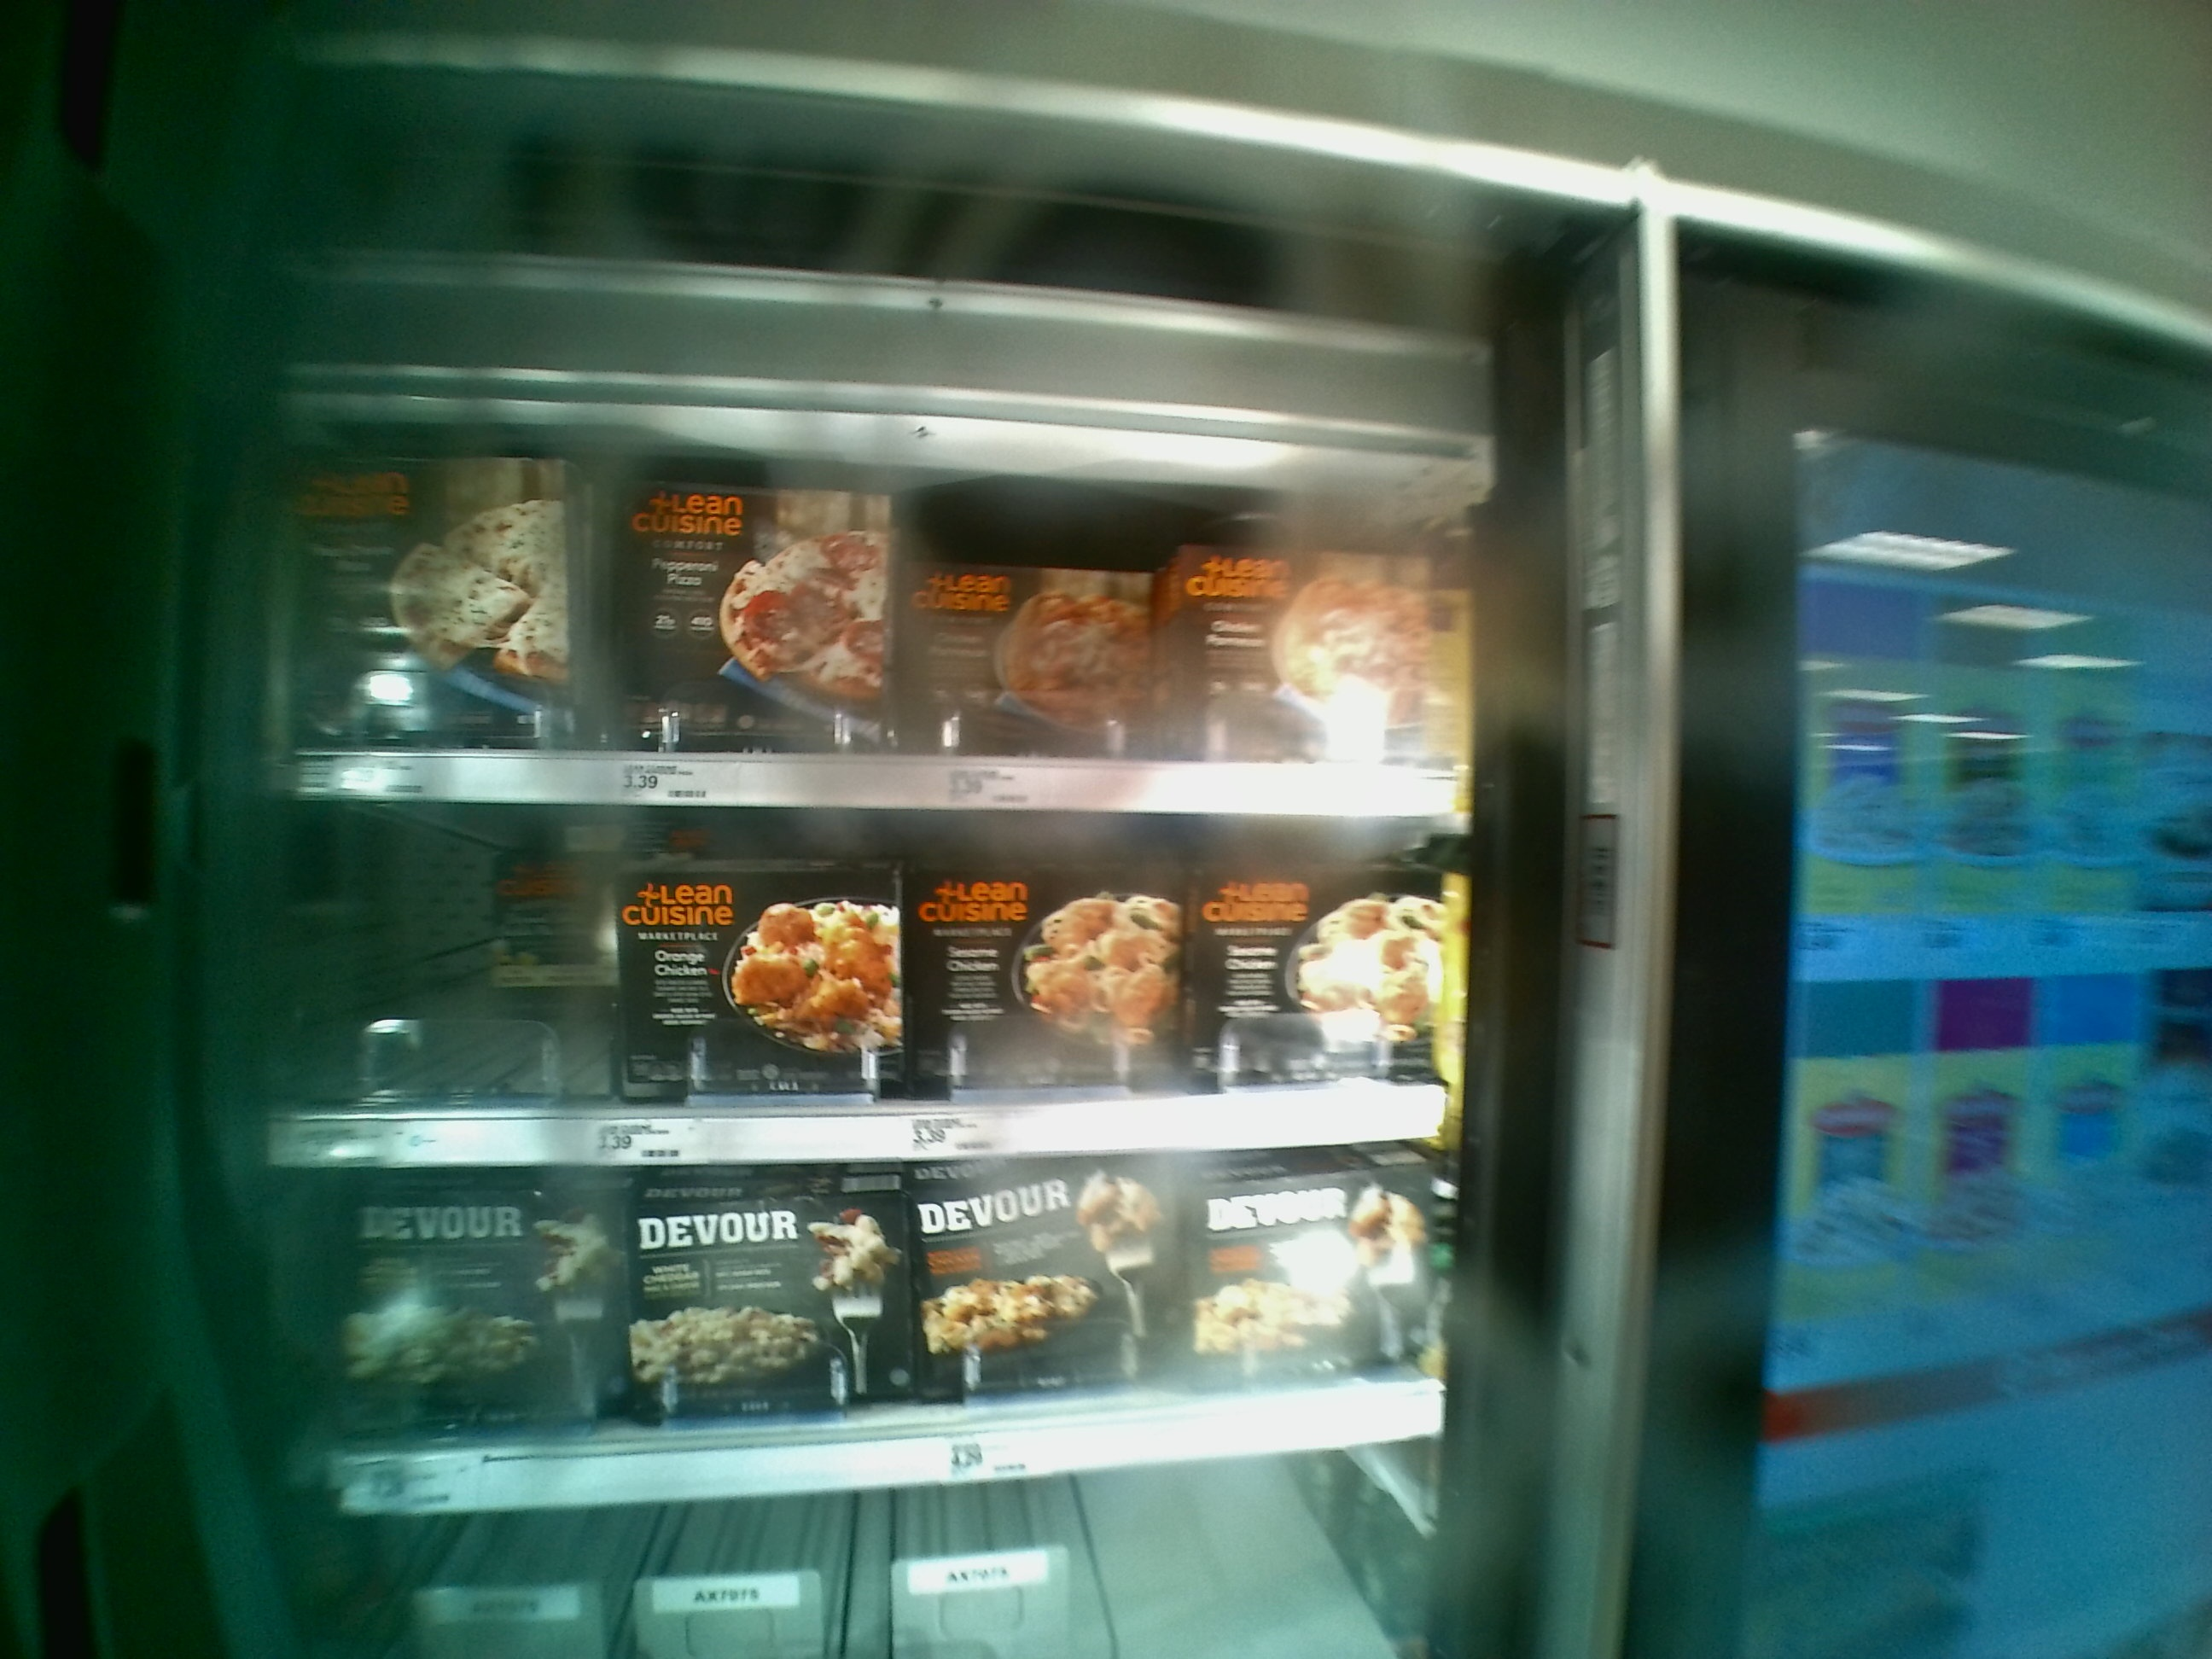shelf: (268, 401, 1453, 823), (286, 1134, 1444, 1516), (279, 791, 1447, 1162)
